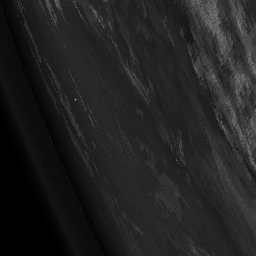Target: (73, 97, 77, 102)
